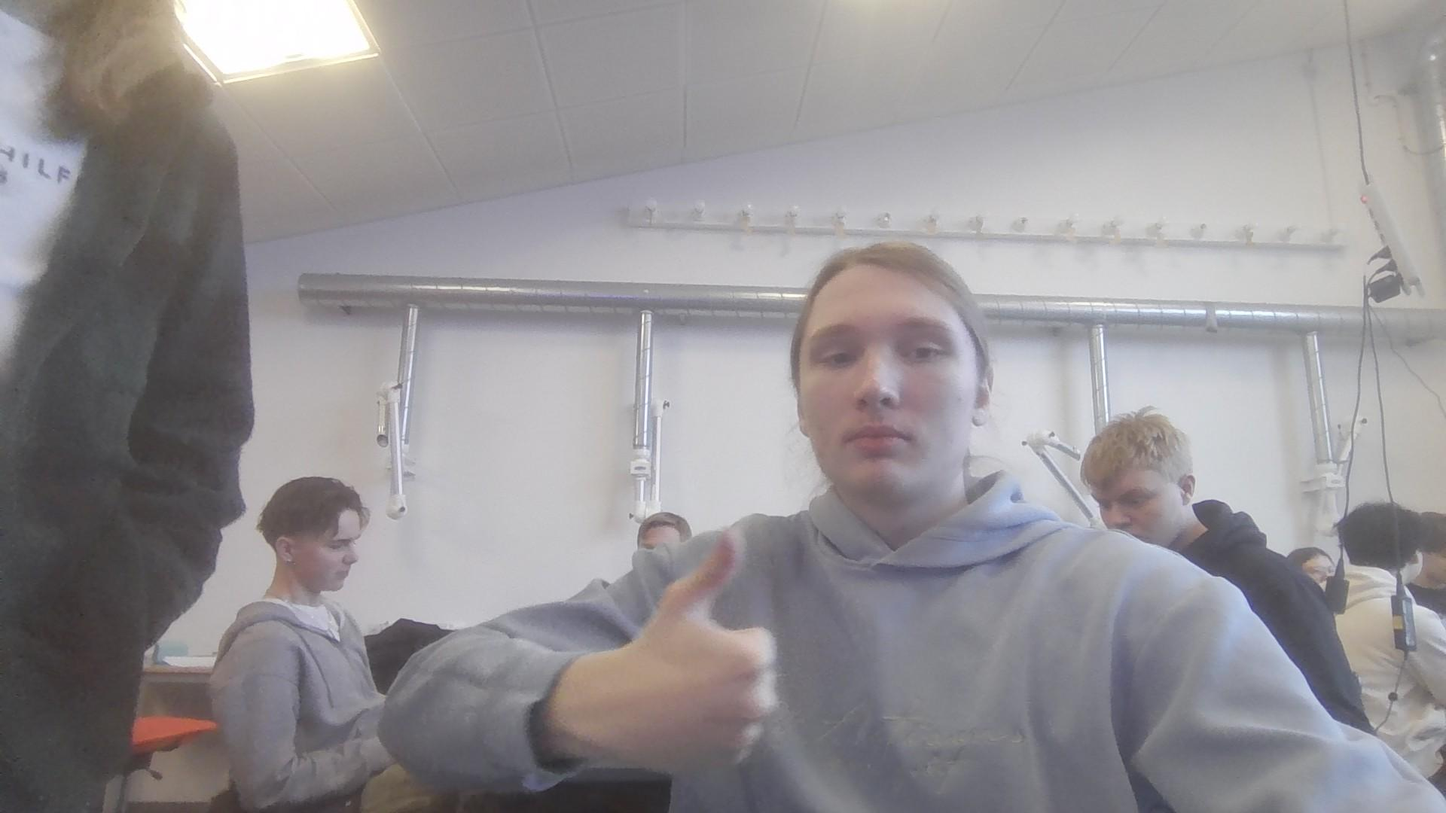thumbs up: (629, 528, 783, 782)
